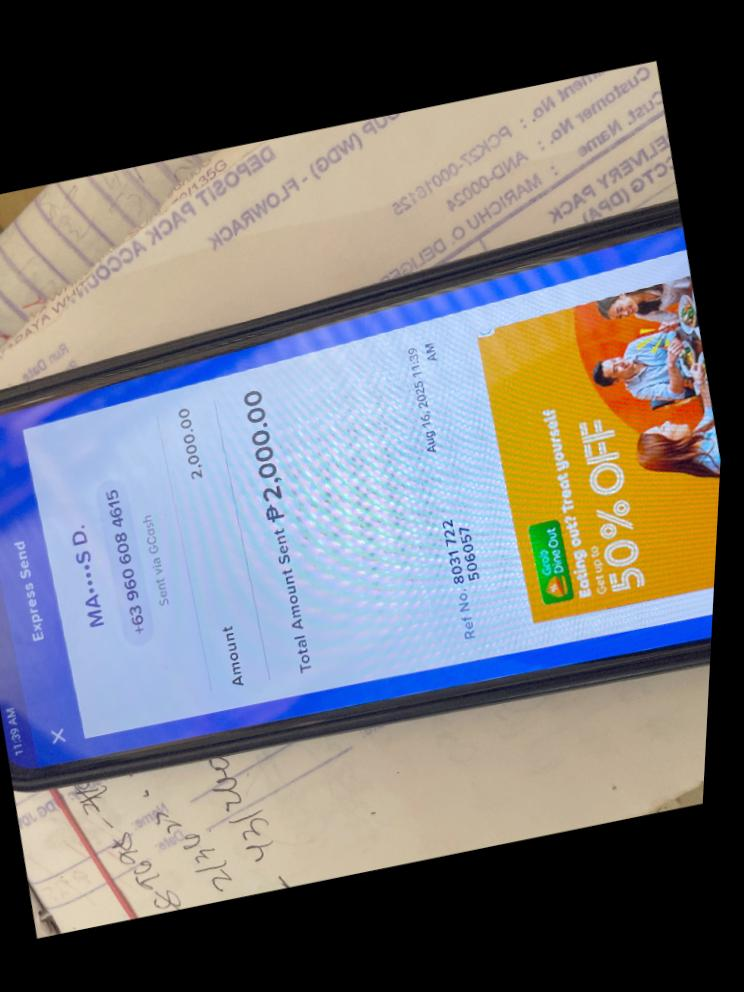Receipt: (0, 225, 720, 767)
